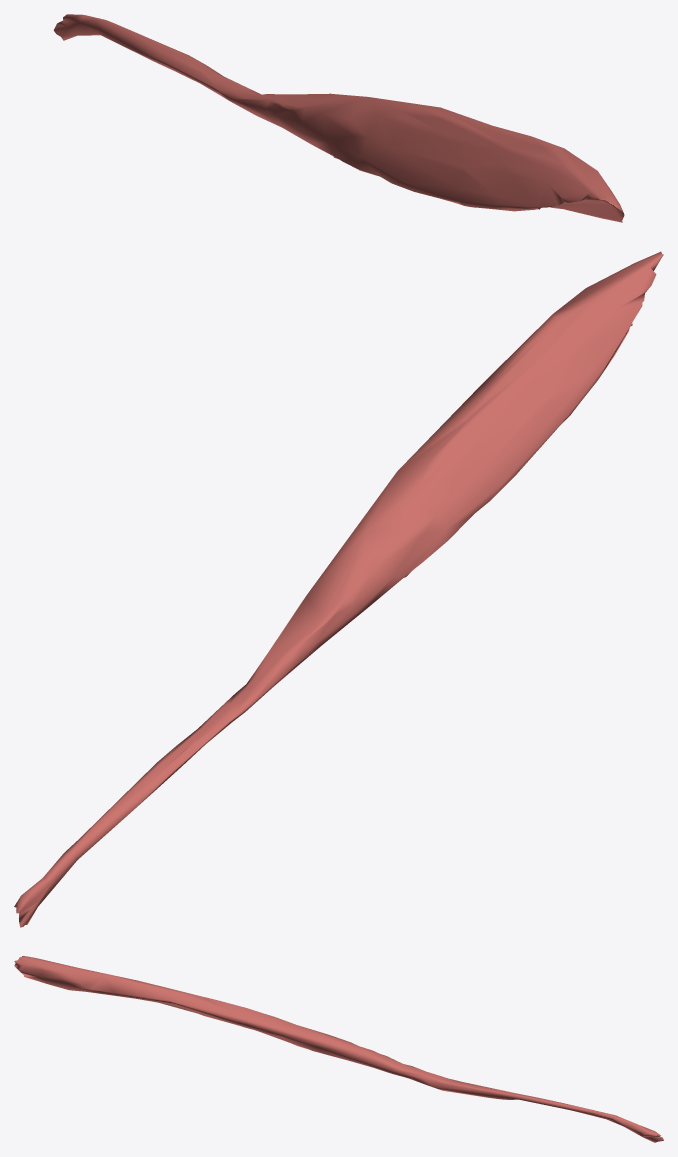
3 renders of one model, top to bottom at view 1: azimuth 30°, elevation 25°; view 2: azimuth 150°, elevation 25°; view 3: azimuth 270°, elevation 25°, orthographic. The views are drawn at different scales.
Visible parts, largest first — view 1: 左侧尺侧腕伸肌尺头; view 2: 左侧尺侧腕伸肌尺头; view 3: 左侧尺侧腕伸肌尺头.
Part boxes in pixels (x1,y1,x2,y2): 左侧尺侧腕伸肌尺头: (53, 14, 624, 222); 左侧尺侧腕伸肌尺头: (14, 251, 663, 927); 左侧尺侧腕伸肌尺头: (14, 956, 663, 1142).
Bounding box in the file's own units: 0.034 × 0.084 × 0.3019.
